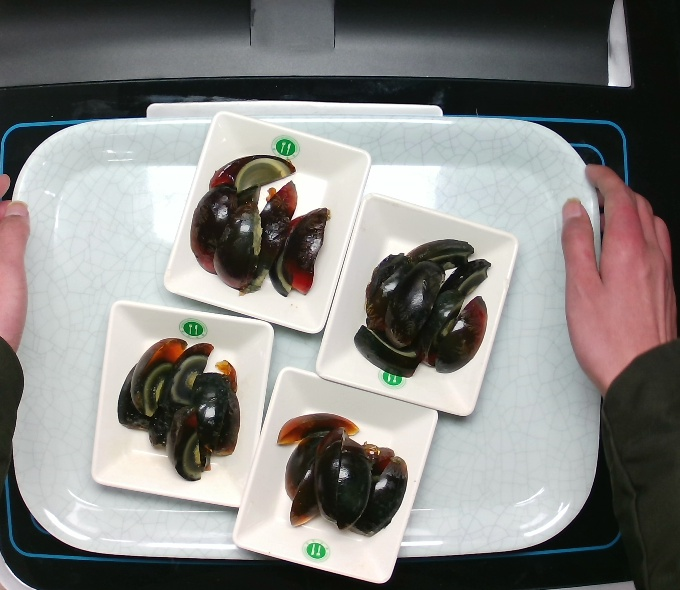wcq-PiDan: (181, 141, 328, 306), (260, 398, 417, 541), (349, 229, 496, 379), (113, 334, 247, 482)
